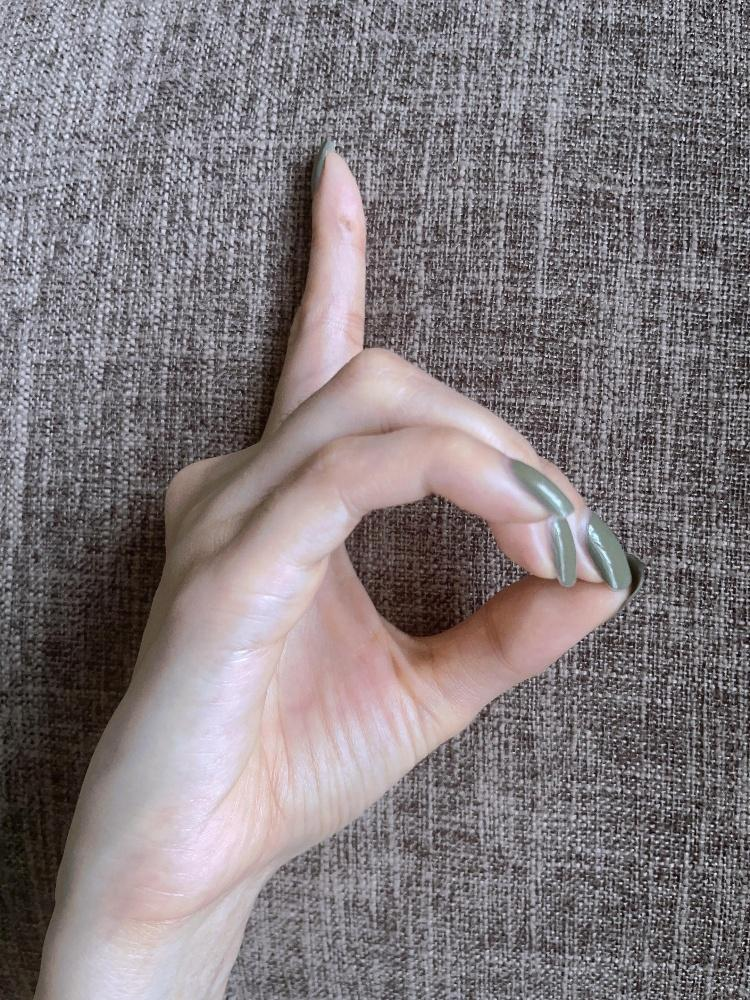d: (58, 129, 649, 914)
